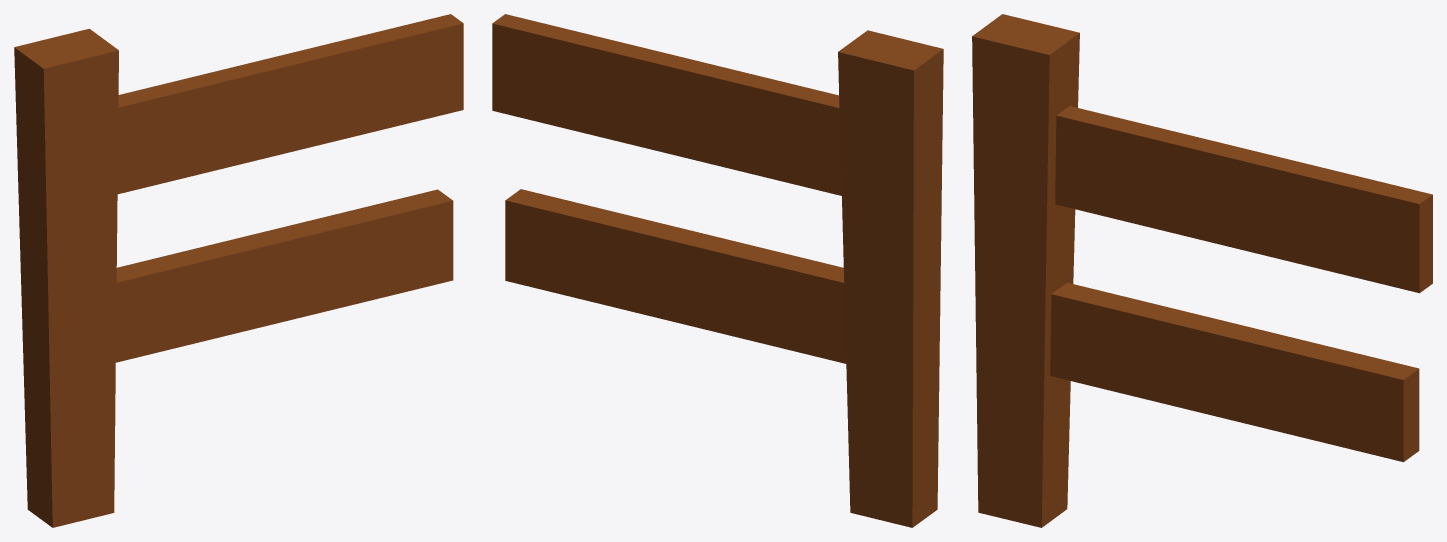
File: Fence_tex.fbx
3 views of the same model, side by side, from view 1: azimuth 30°, elevation 25°; view 2: azimuth 150°, elevation 25°; view 3: azimuth 330°, elevation 25° (orthographic). The views are drawn at different scales.
Parts seen in each view (by area): view 1: Fence_tex; view 2: Fence_tex; view 3: Fence_tex.
Boxes of the visible parts, x1,y1,x2,y2 form: Fence_tex: (14,14,463,527); Fence_tex: (492,14,943,527); Fence_tex: (972,14,1432,527).
Size of the model in its own units: 0.8998 by 0.9255 by 0.113.
